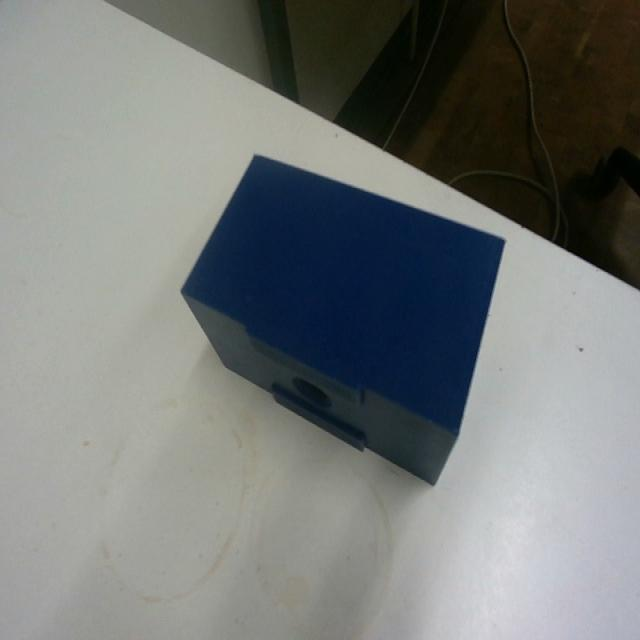Blue Cuboid: (178, 149, 507, 488)
